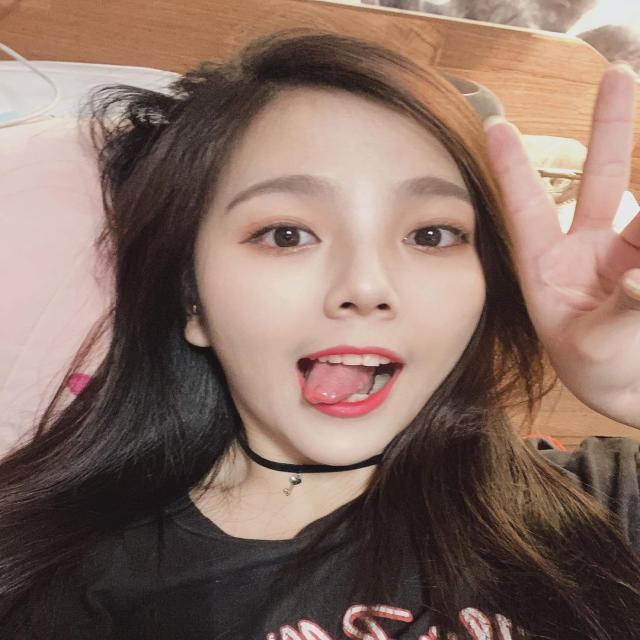tongue: (295, 361, 379, 408)
